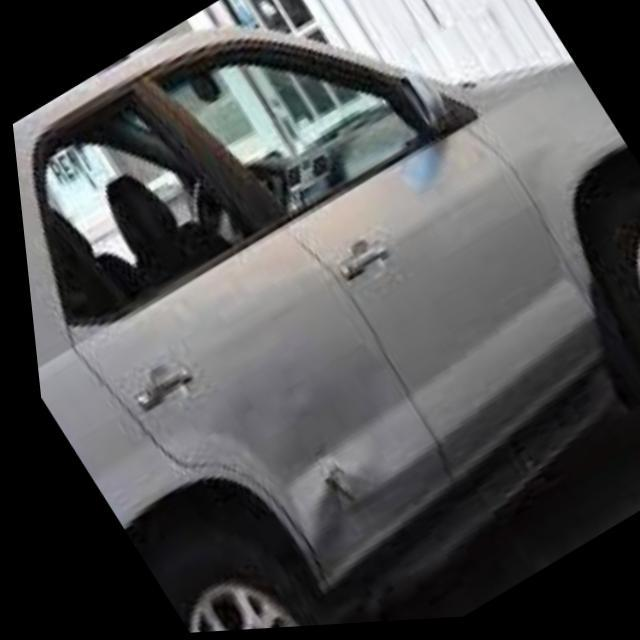crack: (288, 458, 366, 532)
